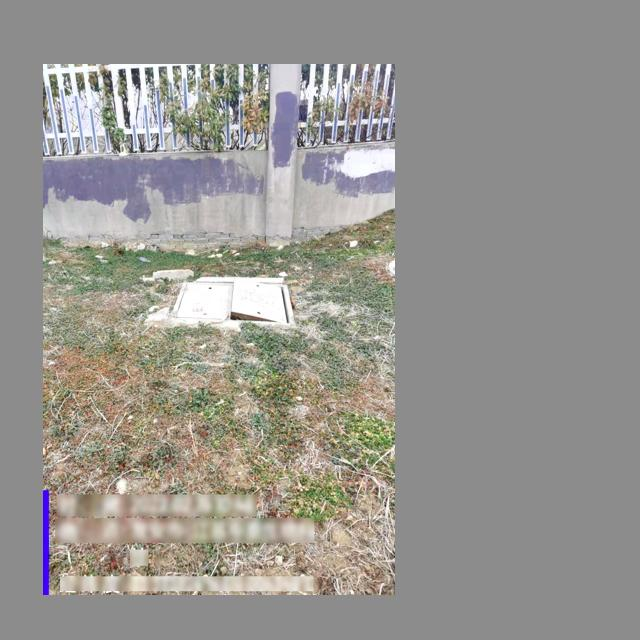uncovered: (166, 263, 295, 328)
